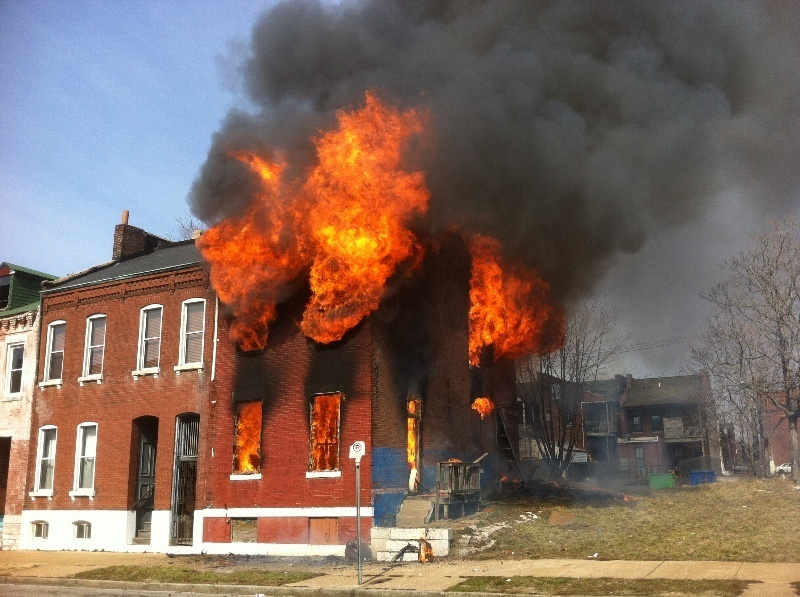fire: (466, 241, 557, 359), (471, 394, 495, 416)
